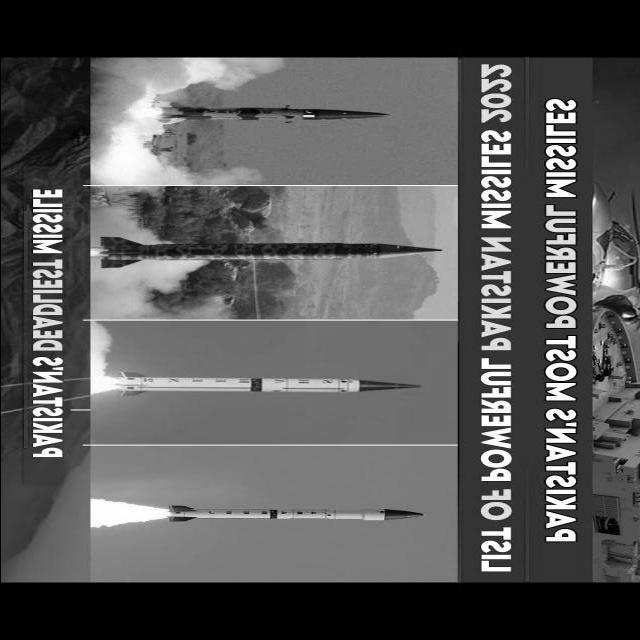Missile: (92, 232, 442, 266), (117, 369, 423, 396), (165, 501, 432, 526), (155, 100, 391, 125)
